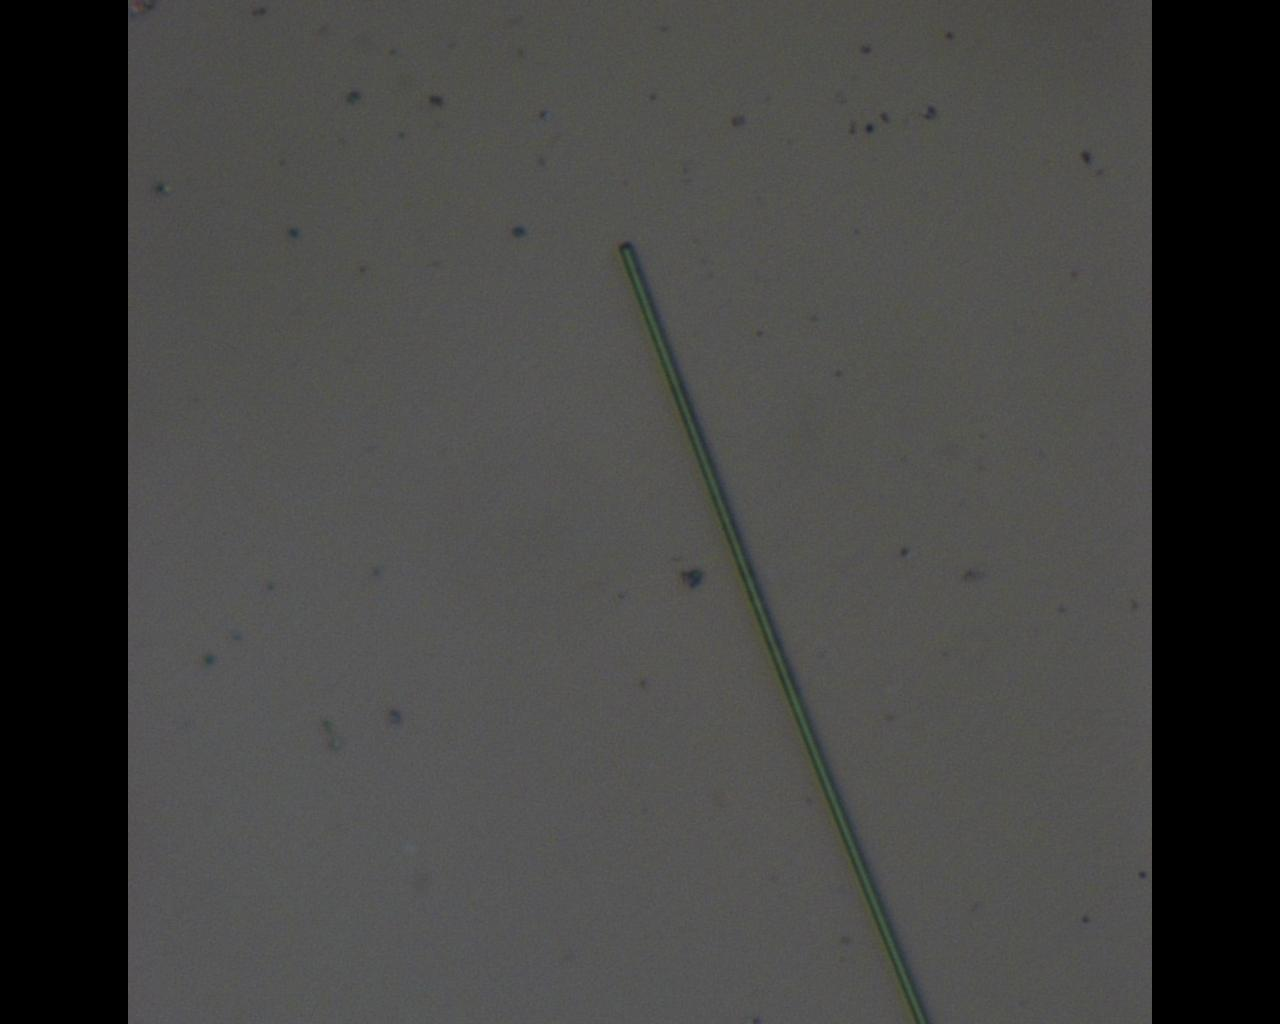fiber: (618, 237, 935, 1024)
